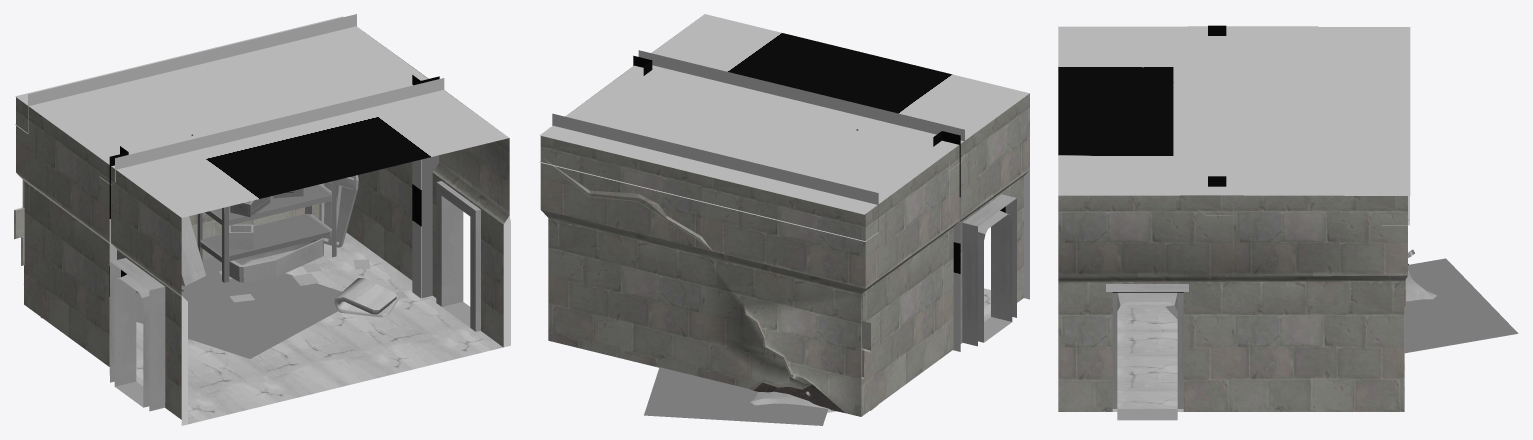
File: MSH_QuestMausoleum_L2_R1_optimized.fbx
3 views of the same model, side by side, from view 1: azimuth 30°, elevation 25°; view 2: azimuth 150°, elevation 25°; view 3: azimuth 270°, elevation 25° (orthographic). The views are drawn at different scales.
Visible parts, largest first — view 1: lightmap1, lightmap0, lightmap2, MSH_QuestMausoleum_L2_R1_Decals_01, MSH_QuestMausoleum_L2_R1_Black_01; view 2: lightmap1, lightmap0, lightmap2, MSH_QuestMausoleum_L2_R1_Decals_01, MSH_QuestMausoleum_L2_R1_Black_01; view 3: lightmap1, lightmap0, MSH_QuestMausoleum_L2_R1_Decals_01, lightmap2.
Boxes of the visible parts, x1,y1,x2,y2 form: lightmap1: [15, 16, 509, 419]; lightmap0: [14, 14, 502, 424]; lightmap2: [110, 181, 480, 411]; MSH_QuestMausoleum_L2_R1_Decals_01: [23, 155, 438, 358]; MSH_QuestMausoleum_L2_R1_Black_01: [181, 216, 510, 425]; lightmap1: [540, 14, 1029, 416]; lightmap0: [539, 50, 990, 412]; lightmap2: [962, 194, 1016, 346]; MSH_QuestMausoleum_L2_R1_Decals_01: [644, 367, 828, 425]; MSH_QuestMausoleum_L2_R1_Black_01: [1024, 170, 1029, 299]; lightmap1: [1058, 26, 1410, 411]; lightmap0: [1112, 25, 1436, 411]; MSH_QuestMausoleum_L2_R1_Decals_01: [1165, 258, 1518, 353]; lightmap2: [1106, 284, 1188, 420].
Bounding box in the file's own units: 10.3 × 6.54 × 11.16.
